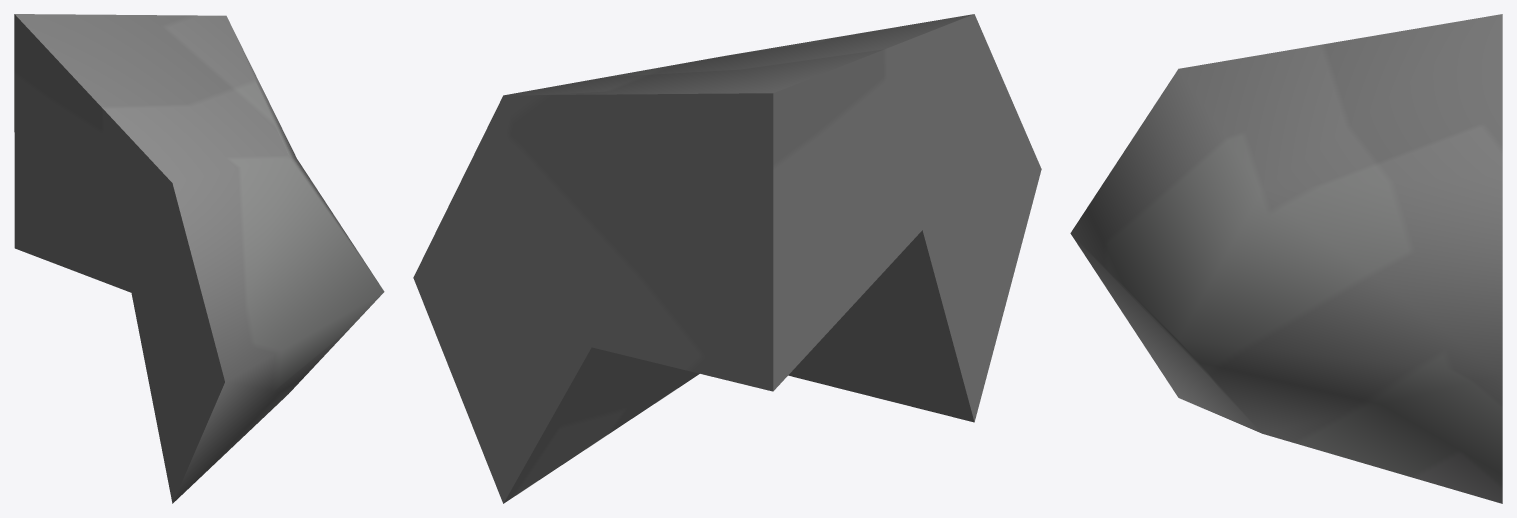
Rendered from StoneChunk1.fbx.
3 renders of one model, left to right at view 1: azimuth 30°, elevation 25°; view 2: azimuth 150°, elevation 25°; view 3: azimuth 270°, elevation 25°, orthographic. The views are drawn at different scales.
Visible parts, largest first — view 1: StoneChunk1; view 2: StoneChunk1; view 3: StoneChunk1.
Part boxes in pixels (x1=…): StoneChunk1: x1=14, y1=14, x2=384, y2=503; StoneChunk1: x1=413, y1=14, x2=1041, y2=503; StoneChunk1: x1=1070, y1=14, x2=1502, y2=503.
Bounding box in the file's own units: 0.2683 × 0.3393 × 0.3462.
Materials: 1 (1 with a texture image).
